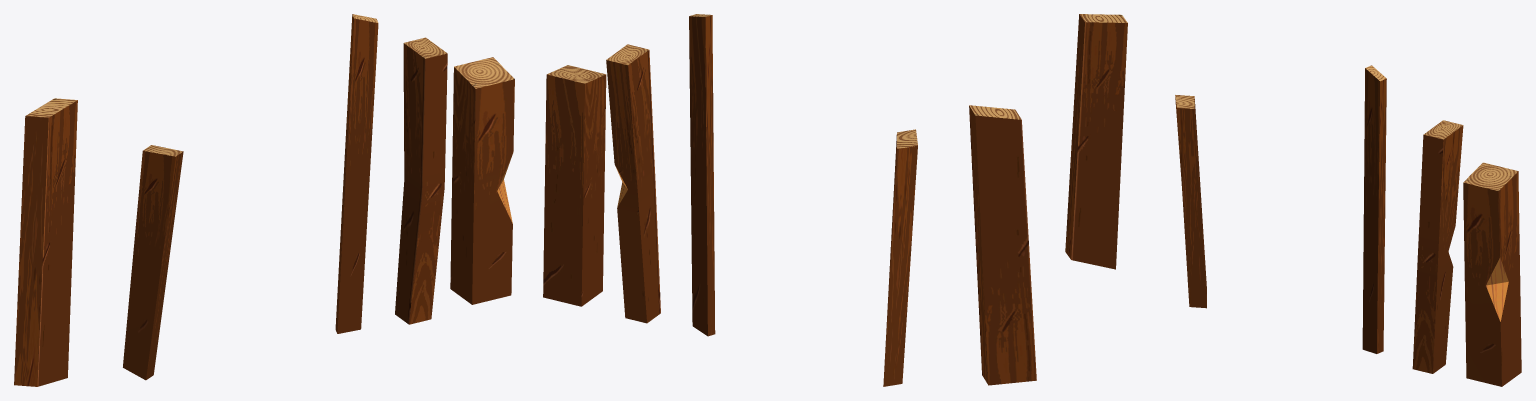
File: postes atrás arco potrero.fbx
3 views of the same model, side by side, from view 1: azimuth 30°, elevation 25°; view 2: azimuth 150°, elevation 25°; view 3: azimuth 330°, elevation 25° (orthographic). The views are drawn at different scales.
Visible parts, largest first — view 1: poste 5, poste 2, poste 1, poste 3, poste 4; view 2: poste 5, poste 2, poste 1, poste 3, poste 4; view 3: poste 5, poste 2, poste 1, poste 3, poste 4.
Part boxes in pixels (x1,y1,x2,y2): poste 5: [14, 98, 77, 386]; poste 2: [450, 57, 514, 304]; poste 1: [395, 37, 447, 324]; poste 3: [335, 14, 378, 333]; poste 4: [123, 145, 183, 380]; poste 5: [969, 105, 1036, 385]; poste 2: [543, 65, 606, 306]; poste 1: [606, 44, 660, 323]; poste 3: [689, 14, 715, 336]; poste 4: [883, 129, 917, 386]; poste 5: [1065, 14, 1127, 269]; poste 2: [1463, 162, 1521, 386]; poste 1: [1412, 120, 1463, 373]; poste 3: [1362, 65, 1386, 353]; poste 4: [1175, 95, 1206, 308].
Size of the model in its own units: 491 by 307 by 68.12.
Materials: 1 (1 with a texture image).
